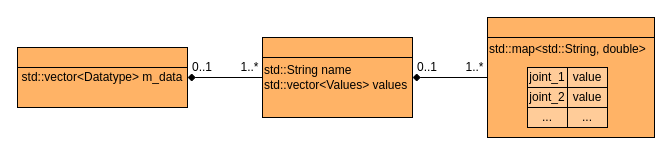
This 672x155 diagram has some shape labels left out. Each missing label, with the centre of its shape:
Data: the point at 102,57
Datatype: the point at 337,47
Values: the point at 570,27
